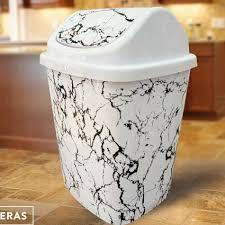dustbin: (42, 7, 197, 220)
